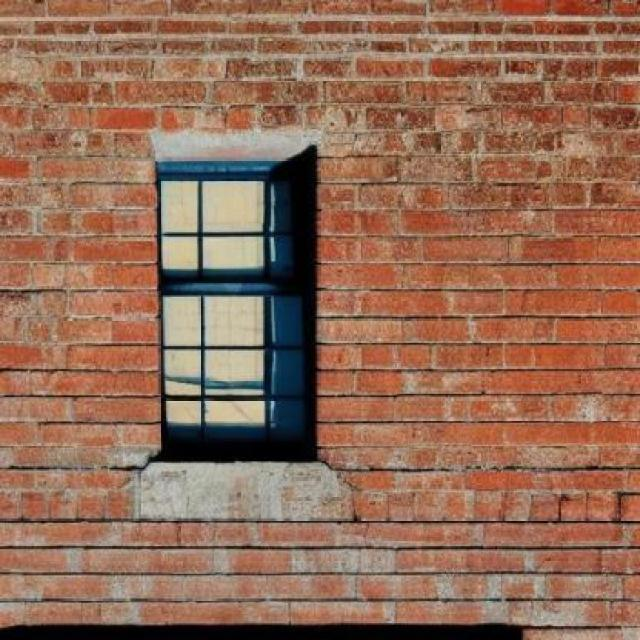window: (156, 162, 316, 462)
